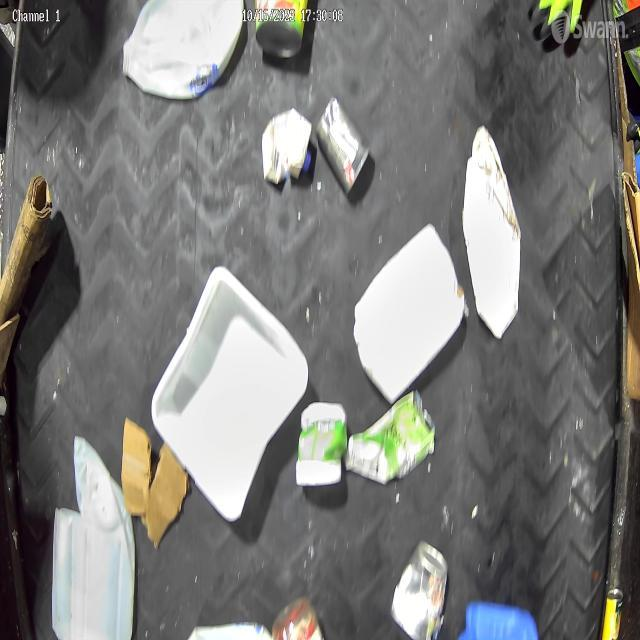can: (318, 92, 378, 202), (392, 535, 449, 640), (252, 0, 318, 72)
milk_jug: (116, 0, 252, 104)
